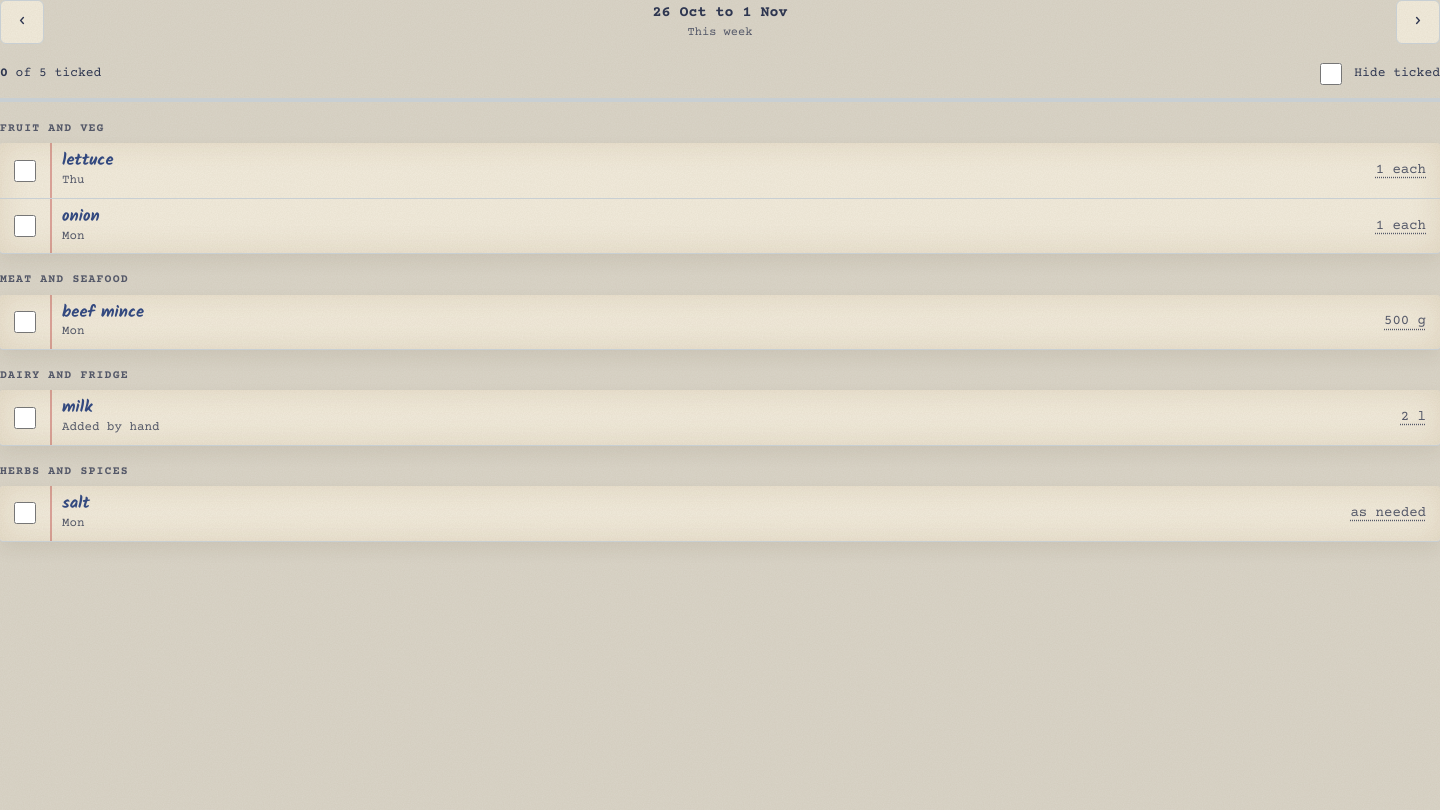
Test case: Amount sheet › saves the amount bought and ticks the item
Click the button named "Change amount for beef mince" at (1404, 322), box [1368,300,1439,344]
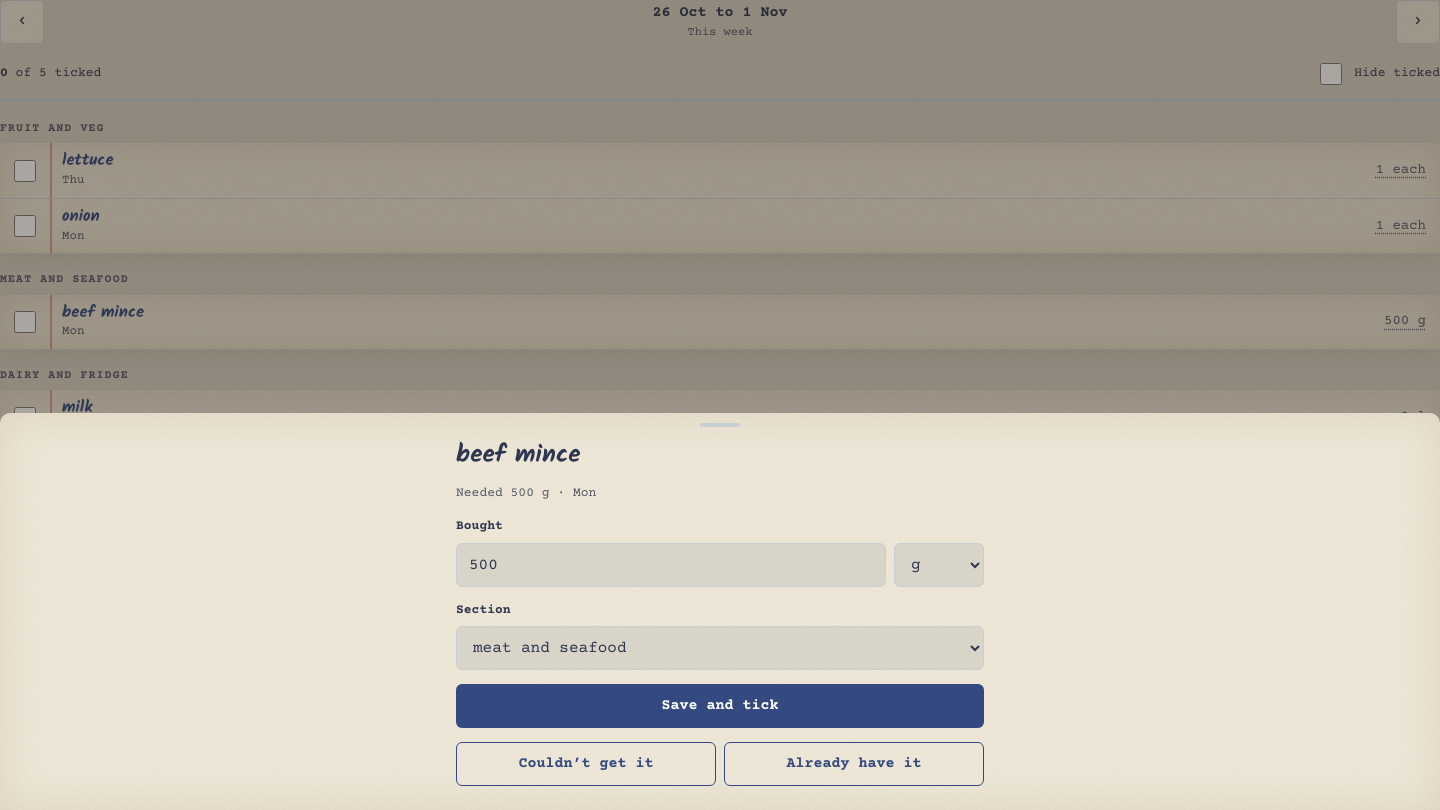
Check: the dialog "beef mince" shows "Needed 500 g · Mon", box [0,413,1439,809]
Check: the number field labelled "Bought" holds "500"
Replace the text in the number field labelled "Bought" with "0.6" at (671, 564), box [456,542,886,586]
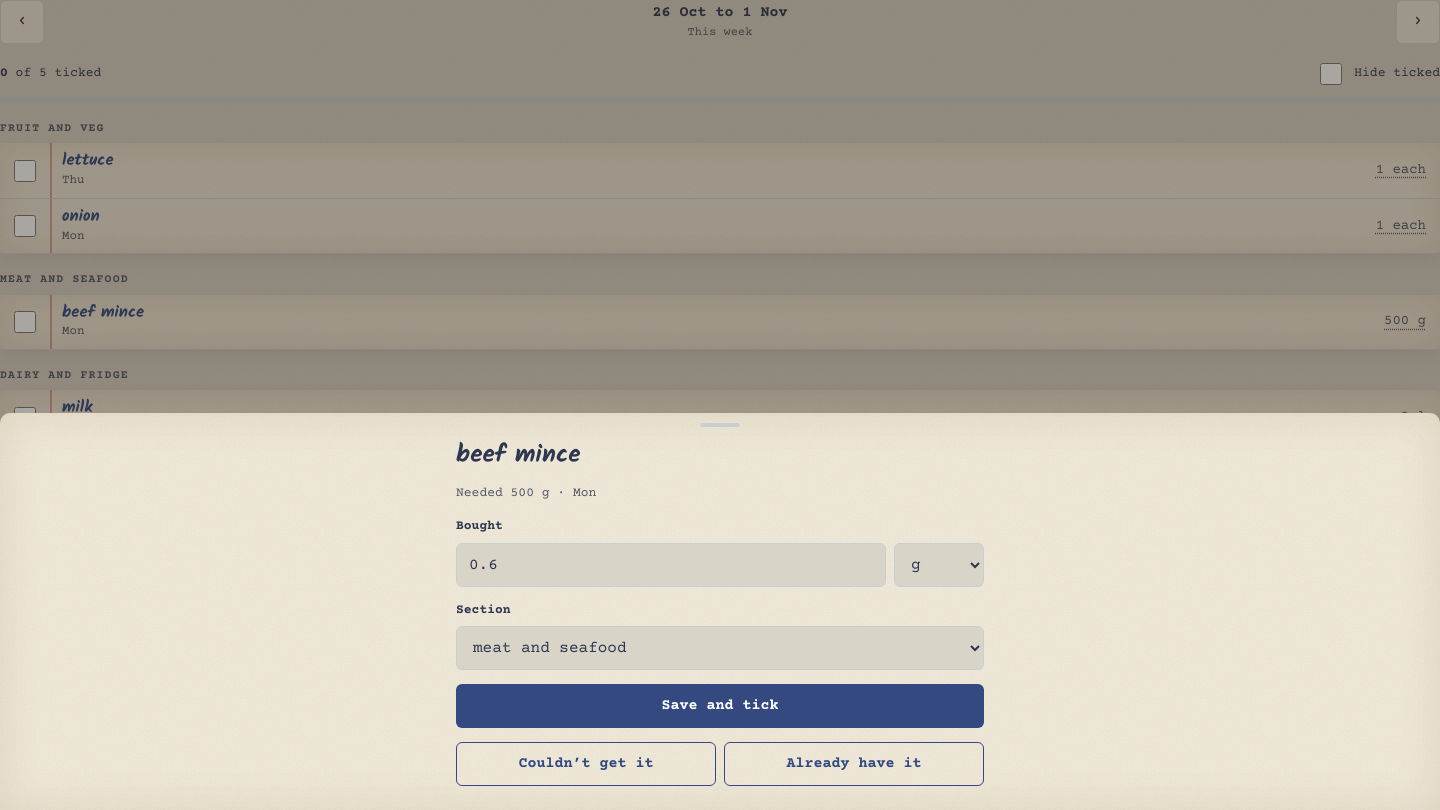
Select "kg" in the dropdown named "Bought unit" at (939, 564), box [894,542,984,586]
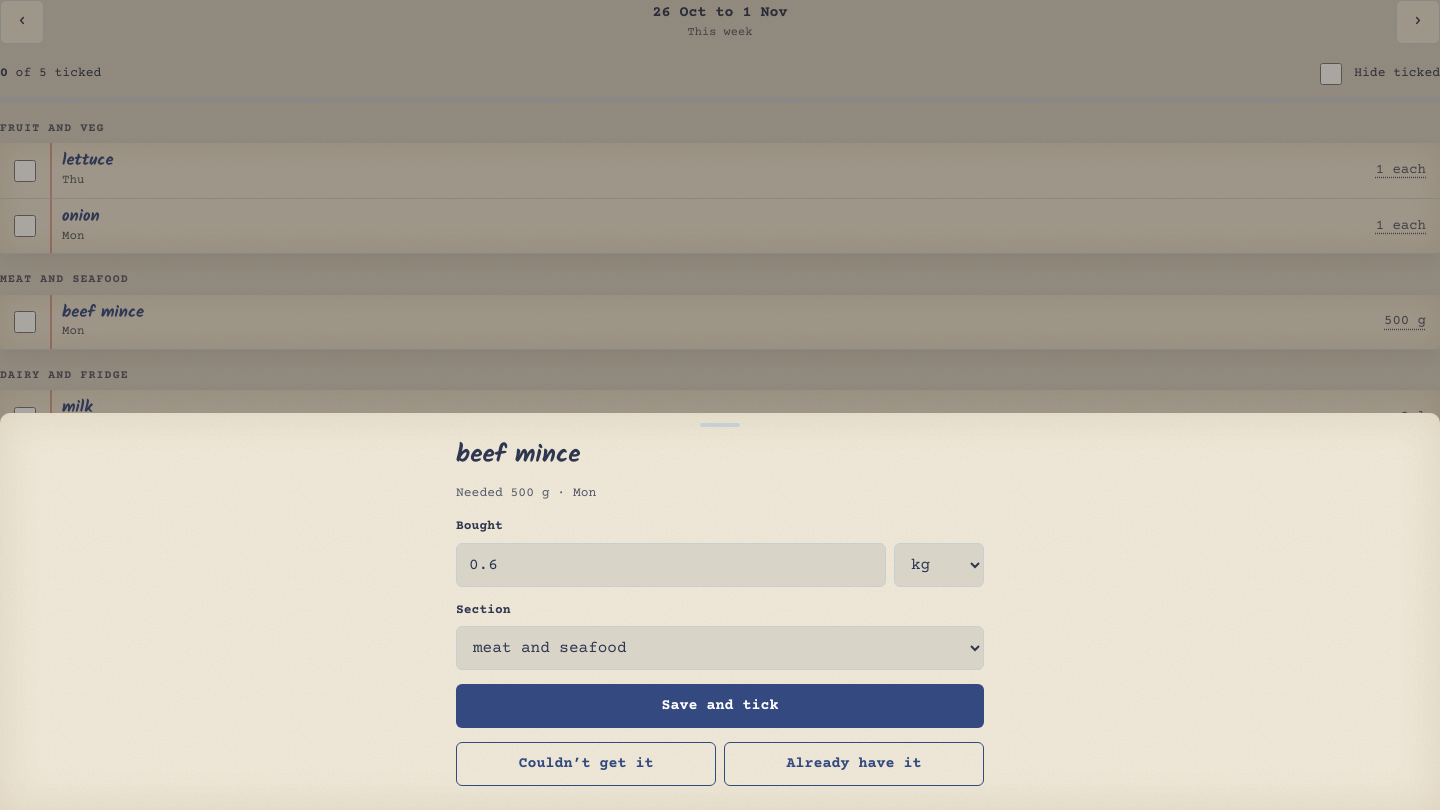
Click the button "Save and tick" at (720, 706), box [456,684,984,728]
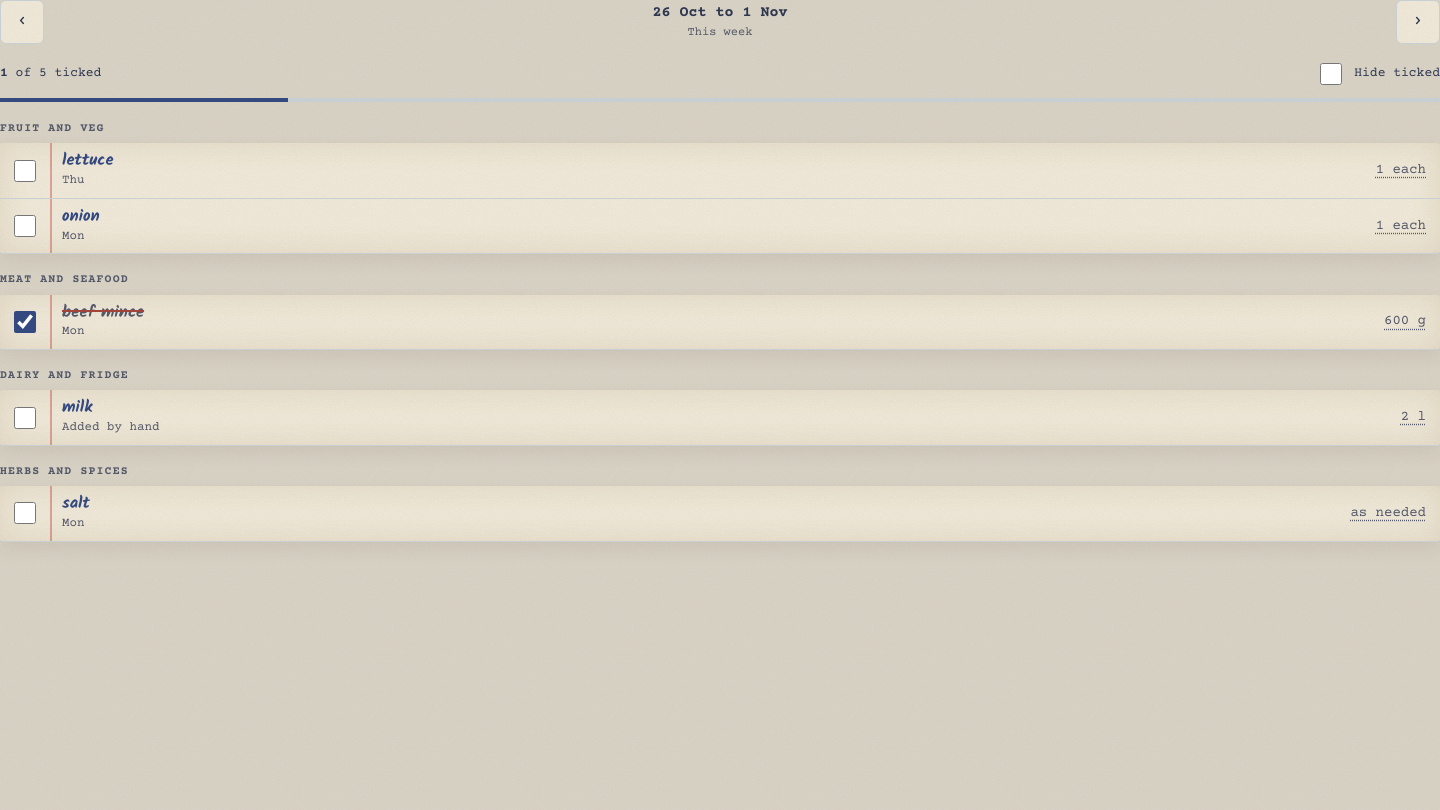
Check: the dialog is gone
Check: the button named "Change amount for beef mince" reads "600 g", box [1368,300,1439,344]
